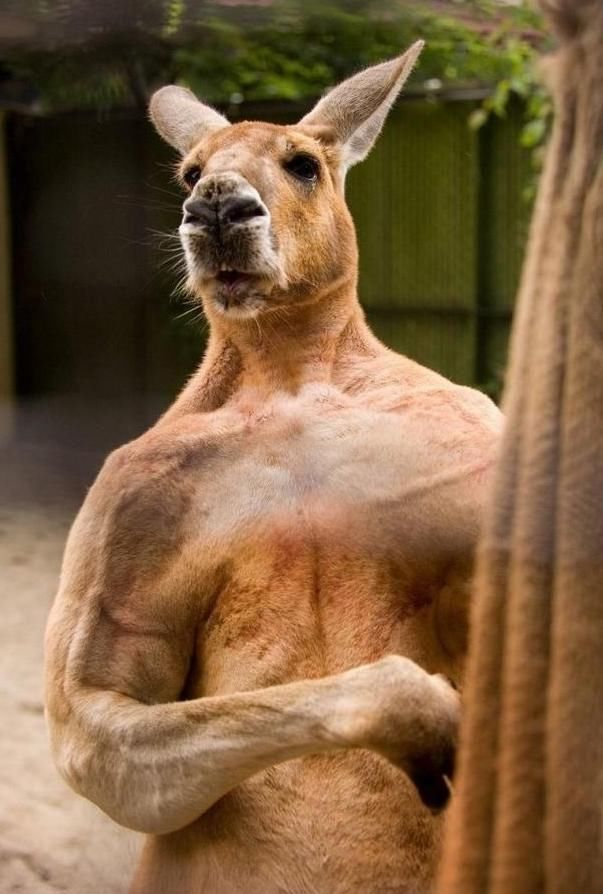kangaroo: (29, 32, 520, 889)
